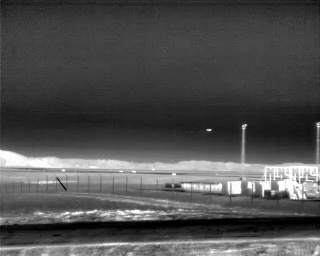AIRPLANE: (204, 126, 214, 134)
